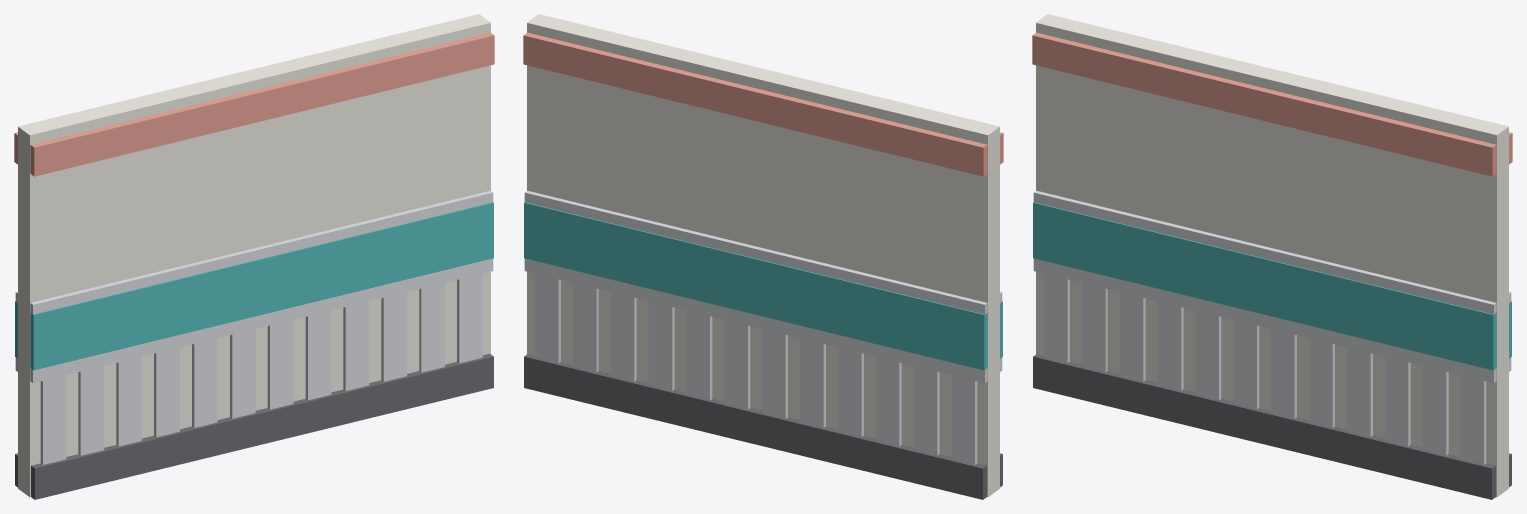
Rendered from retro-diner-and-roadside-motel-diner-car-module-wide-88a07634__37317.glb.
The picture shows the model from 3 angles, left to right: view 1: azimuth 30°, elevation 25°; view 2: azimuth 150°, elevation 25°; view 3: azimuth 330°, elevation 25°; orthographic projection.
Parts seen in each view (by area): view 1: diner-car-module-wide-cream, diner-car-module-wide-chrome, diner-car-module-wide-turquoise, diner-car-module-wide-asphalt, diner-car-module-wide-coral; view 2: diner-car-module-wide-cream, diner-car-module-wide-chrome, diner-car-module-wide-turquoise, diner-car-module-wide-asphalt, diner-car-module-wide-coral; view 3: diner-car-module-wide-cream, diner-car-module-wide-chrome, diner-car-module-wide-turquoise, diner-car-module-wide-asphalt, diner-car-module-wide-coral.
Part boxes in pixels (x1,y1,x2,y2): diner-car-module-wide-cream: (18, 14, 490, 497); diner-car-module-wide-chrome: (15, 190, 493, 464); diner-car-module-wide-turquoise: (15, 202, 493, 370); diner-car-module-wide-asphalt: (15, 354, 493, 499); diner-car-module-wide-coral: (14, 32, 494, 176); diner-car-module-wide-cream: (527, 14, 999, 497); diner-car-module-wide-chrome: (524, 190, 1002, 464); diner-car-module-wide-turquoise: (524, 202, 1002, 370); diner-car-module-wide-asphalt: (524, 354, 1002, 499); diner-car-module-wide-coral: (523, 32, 1003, 176); diner-car-module-wide-cream: (1036, 14, 1508, 497); diner-car-module-wide-chrome: (1033, 190, 1511, 464); diner-car-module-wide-turquoise: (1033, 202, 1511, 370); diner-car-module-wide-asphalt: (1033, 354, 1511, 499); diner-car-module-wide-coral: (1032, 32, 1512, 176).
Bounding box in the file's own units: 4 × 3 × 0.3.
